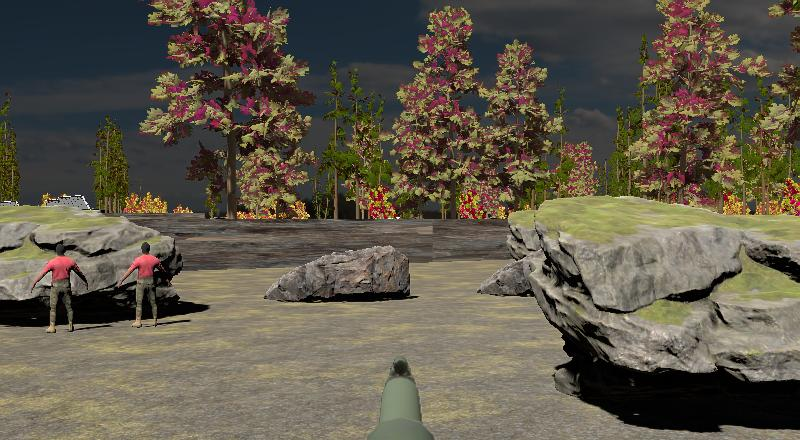Human: (32, 245, 89, 333), (117, 241, 170, 329)
